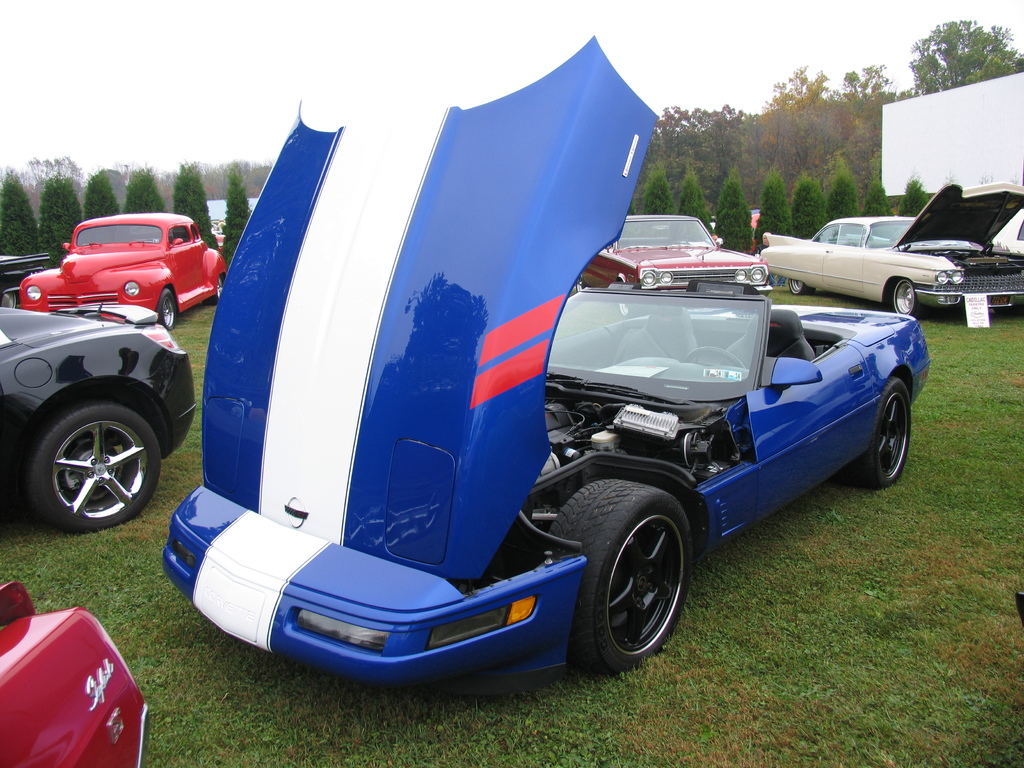Car: (158, 32, 944, 700), (0, 305, 197, 520), (747, 185, 1022, 325), (0, 579, 151, 764), (17, 209, 222, 325), (581, 211, 774, 288), (0, 246, 51, 291)
